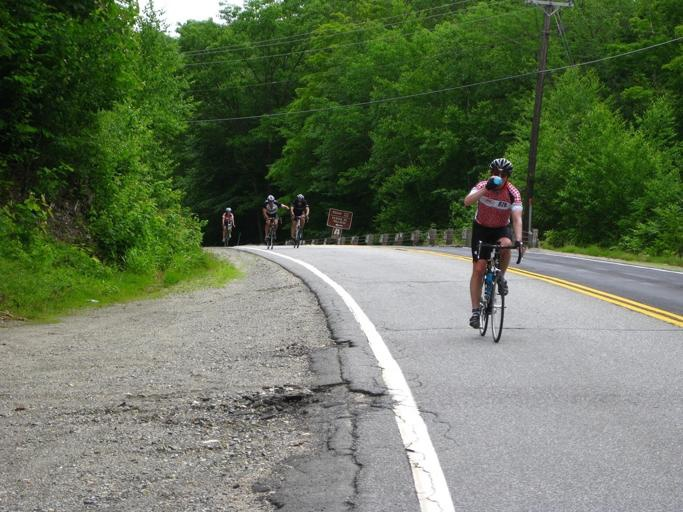non-vehicle: (473, 238, 521, 342), (265, 216, 282, 249), (292, 214, 308, 248), (223, 221, 234, 247)
